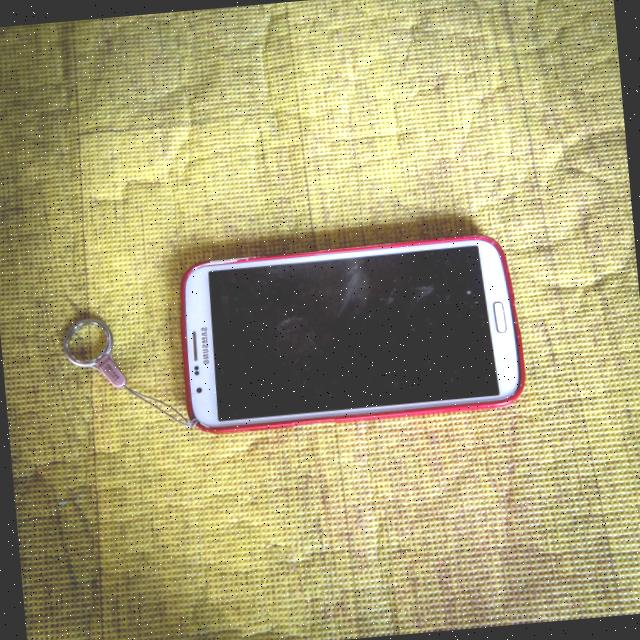Phone: (163, 225, 537, 442)
